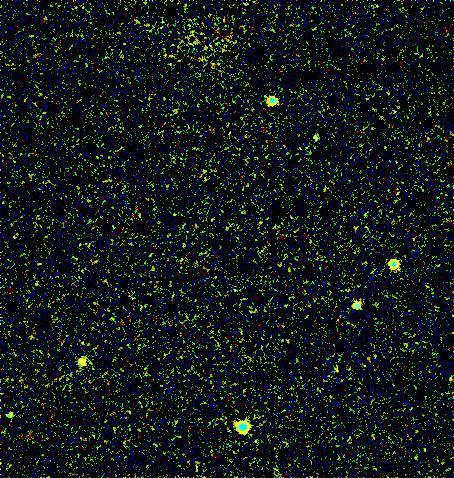star: (62, 346, 92, 376)
